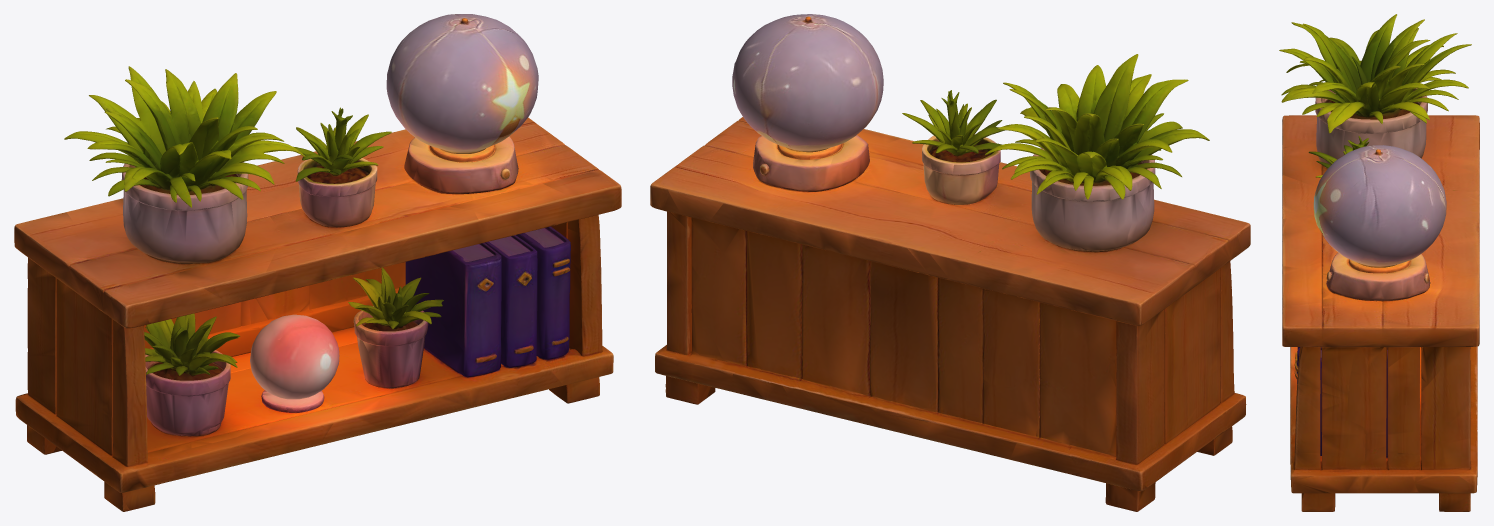
File: rowbookcase.glb
The picture shows the model from 3 angles, left to right: view 1: azimuth 30°, elevation 25°; view 2: azimuth 150°, elevation 25°; view 3: azimuth 270°, elevation 25°; orthographic projection. The views are drawn at different scales.
Parts seen in each view (by area): view 1: model; view 2: model; view 3: model.
Part boxes in pixels (box(x1,y1,x2,y2)): model: box(14, 14, 621, 511); model: box(650, 14, 1250, 511); model: box(1279, 14, 1479, 511).
Bounding box in the file's own units: 1.9 × 1.35 × 0.7576.
1 material, 1 textured.
